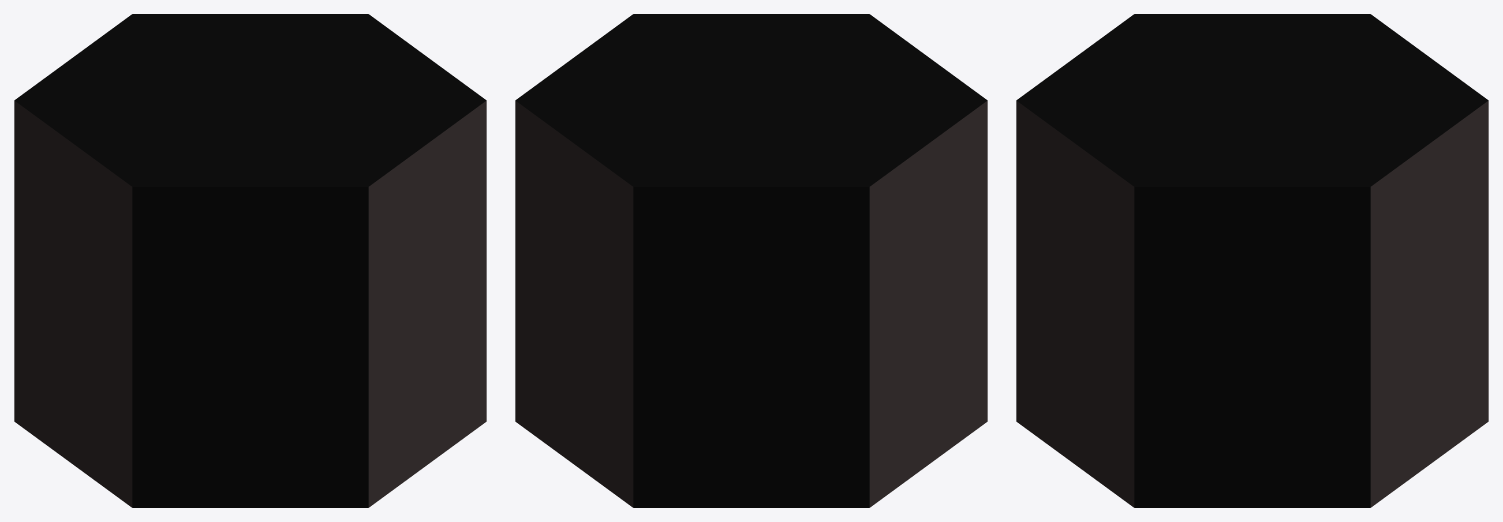
The model's file is tpVideoRoomA.gltf.
3 views of the same model, side by side, from view 1: azimuth 30°, elevation 25°; view 2: azimuth 150°, elevation 25°; view 3: azimuth 270°, elevation 25° (orthographic).
Parts seen in each view (by area): view 1: tpVideoRoom_6side; view 2: tpVideoRoom_6side; view 3: tpVideoRoom_6side.
Part boxes in pixels (bbox=[...]): tpVideoRoom_6side: bbox=[14, 14, 486, 507]; tpVideoRoom_6side: bbox=[515, 14, 987, 507]; tpVideoRoom_6side: bbox=[1016, 14, 1488, 507].
Size of what is drawn, in the model's own units: 3.46 by 3 by 4.
Materials: 1 (1 with a texture image).
